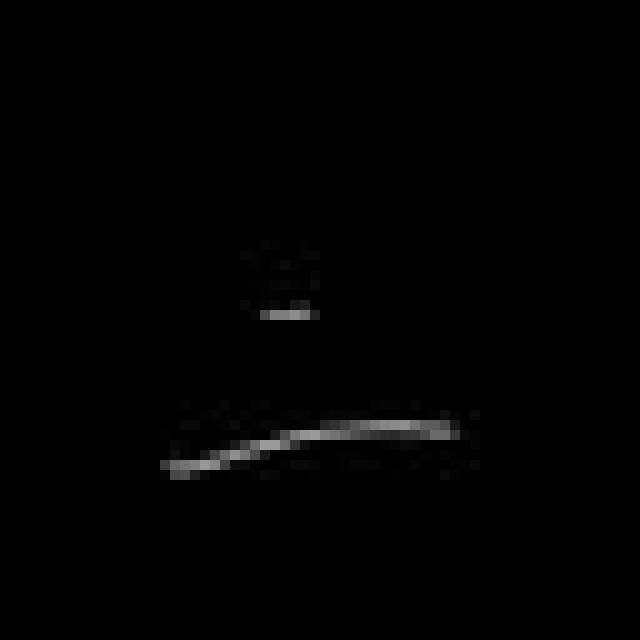2 -two-: (157, 290, 485, 494)
